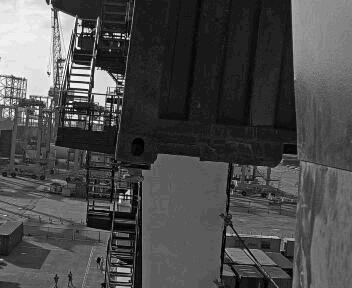twist_lock_1: (116, 157, 161, 189)
